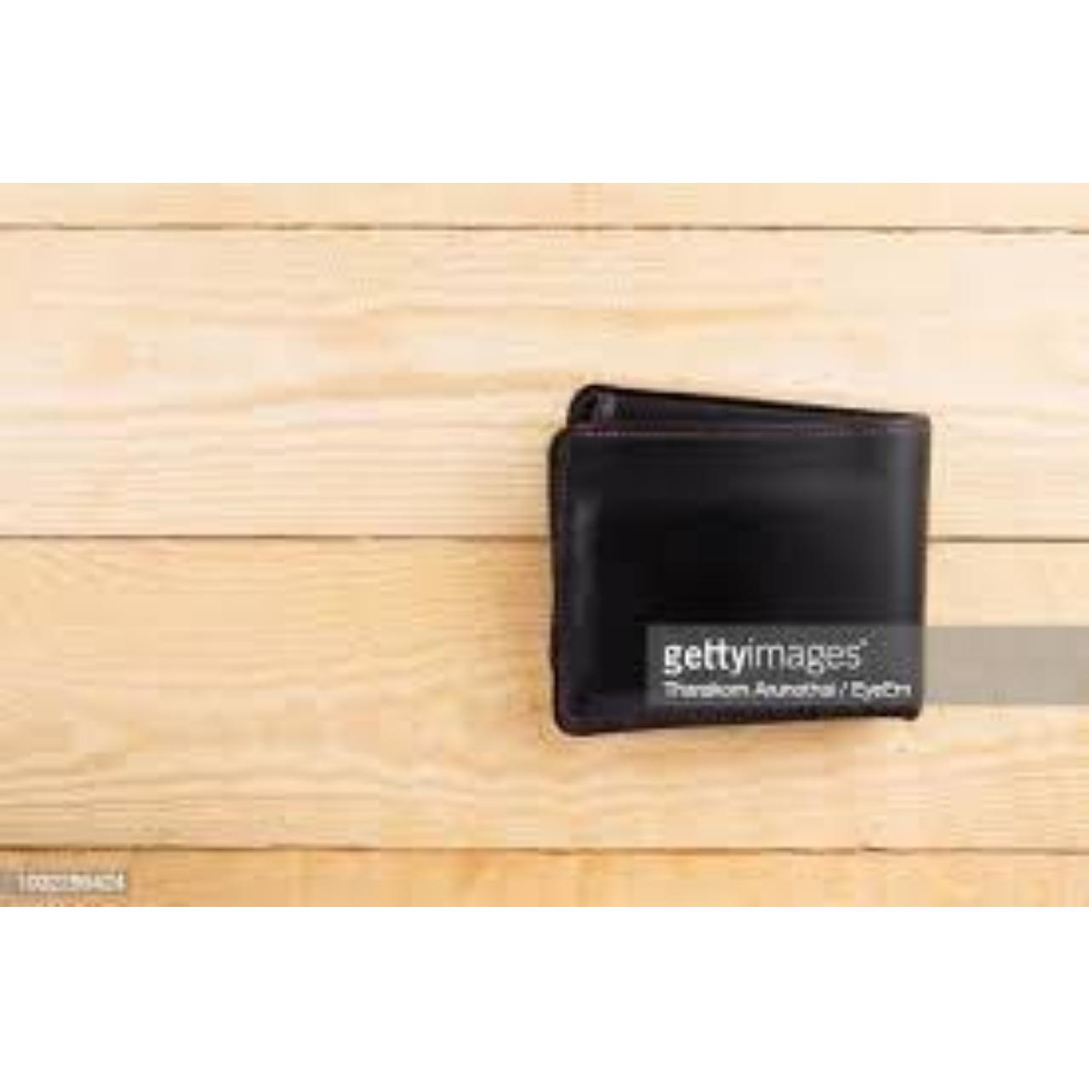wallet: (503, 359, 935, 750)
